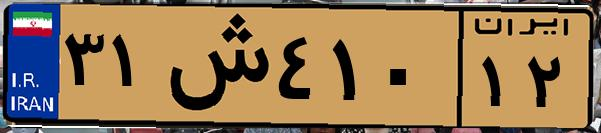0: (385, 28, 445, 110)
1: (330, 28, 385, 110), (475, 38, 525, 113), (110, 28, 158, 98)
2: (525, 38, 570, 115)
3: (57, 26, 110, 100)
4: (270, 28, 330, 110)
ش: (158, 12, 270, 120)
